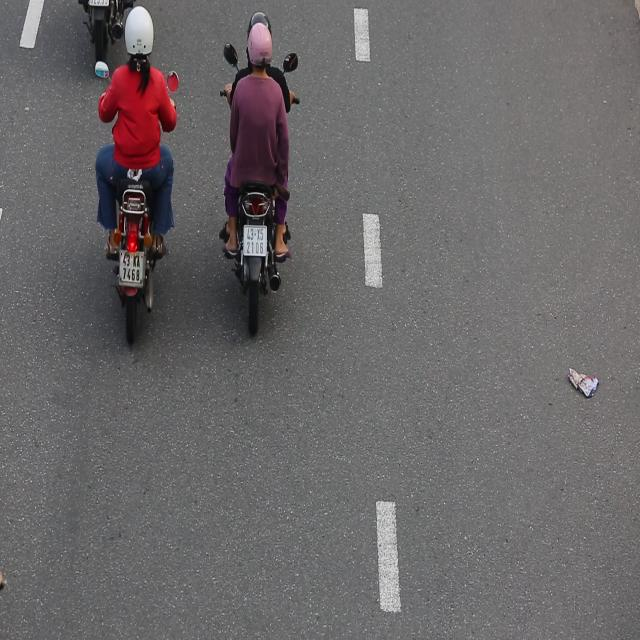motorbike: (84, 0, 189, 351), (218, 5, 306, 343)
